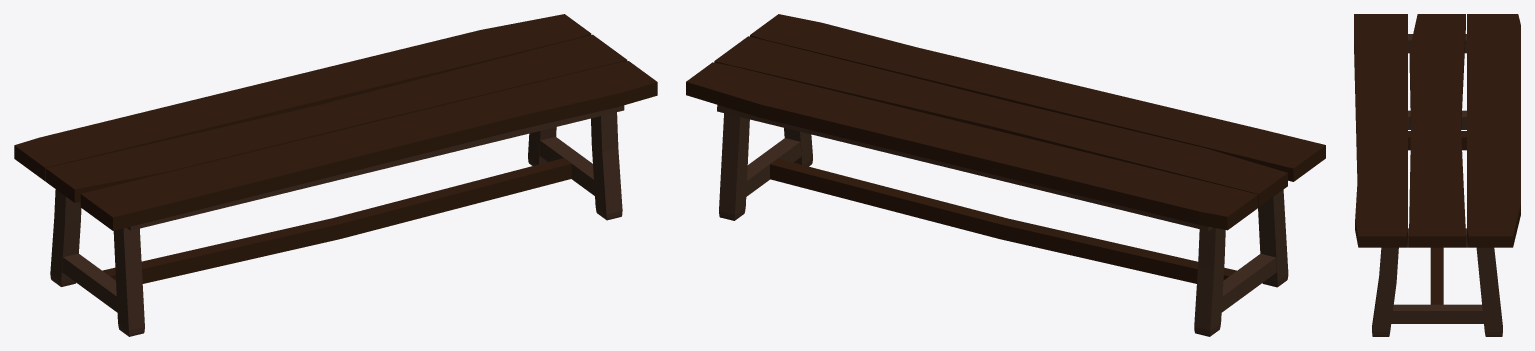
The model's file is LongGuardTable.fbx.
The picture shows the model from 3 angles, left to right: view 1: azimuth 30°, elevation 25°; view 2: azimuth 150°, elevation 25°; view 3: azimuth 270°, elevation 25°; orthographic projection. The views are drawn at different scales.
Visible parts, largest first — view 1: Cube.003; view 2: Cube.003; view 3: Cube.003.
Boxes of the visible parts, left/top/right/bottom form: Cube.003: left=14, top=14, right=657, bottom=336; Cube.003: left=686, top=14, right=1325, bottom=336; Cube.003: left=1354, top=14, right=1520, bottom=336.
Bounding box in the file's own units: 345 × 81.03 × 110.
